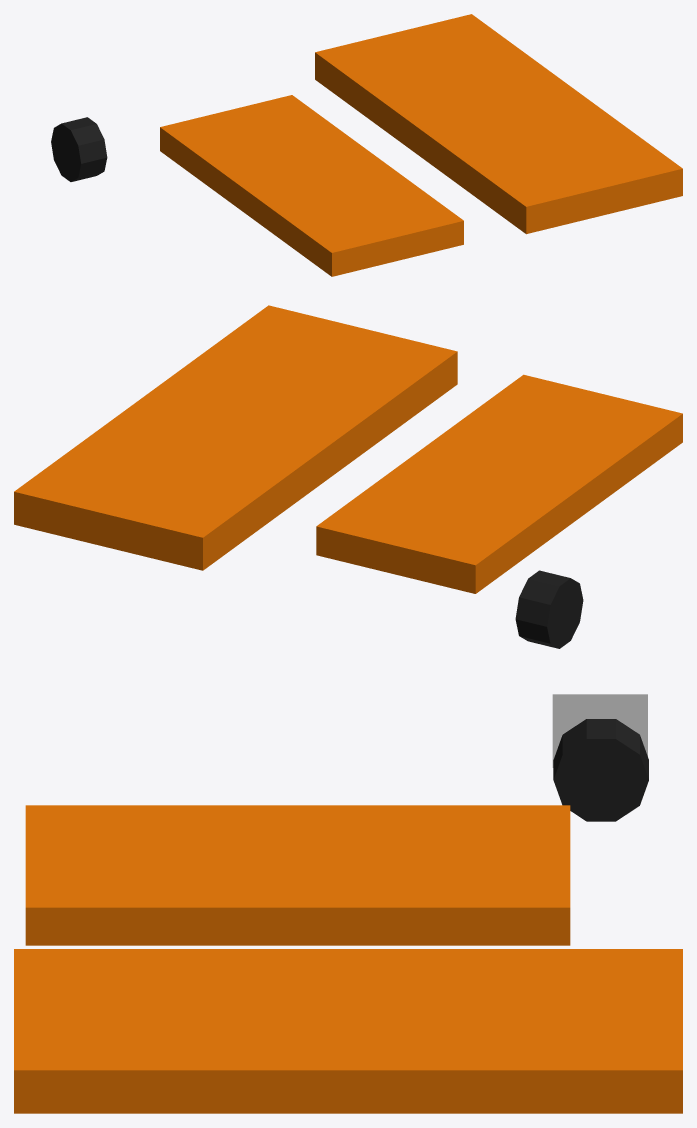
The model's file is low-poly-test-vehicle.gltf.
3 views of the same model, one above another, from view 1: azimuth 30°, elevation 25°; view 2: azimuth 150°, elevation 25°; view 3: azimuth 270°, elevation 25° (orthographic). The views are drawn at different scales.
Visible parts, largest first — view 1: test, chassis, tire; view 2: test, chassis, tire; view 3: test, chassis, tire, Plane.
Boxes of the visible parts, x1,y1,x2,y2 form: test: (315,14,682,234); chassis: (160,95,463,276); tire: (51,117,107,181); test: (14,305,457,570); chassis: (316,374,682,593); tire: (515,570,583,648); test: (14,949,682,1113); chassis: (25,805,570,945); tire: (553,719,648,821); Plane: (552,694,647,767).
Size of the model in its own units: 17.94 by 1.9 by 14.
2 materials, 2 textured.
